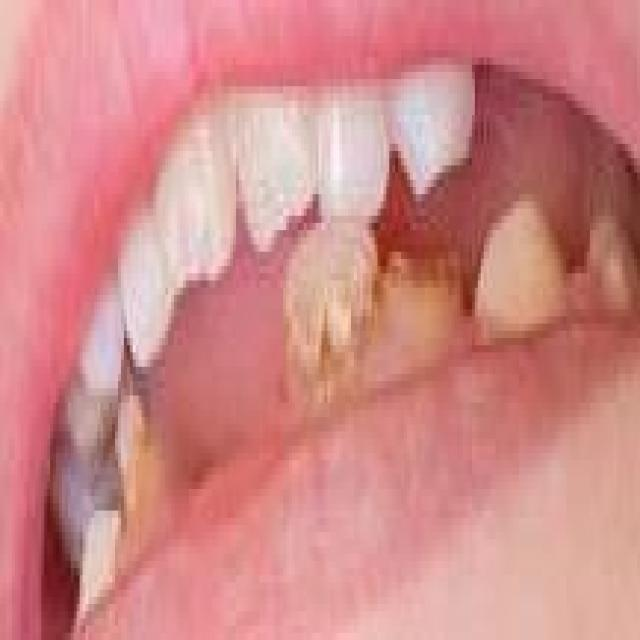caries: (280, 214, 381, 405), (108, 396, 180, 566), (381, 238, 472, 347)
